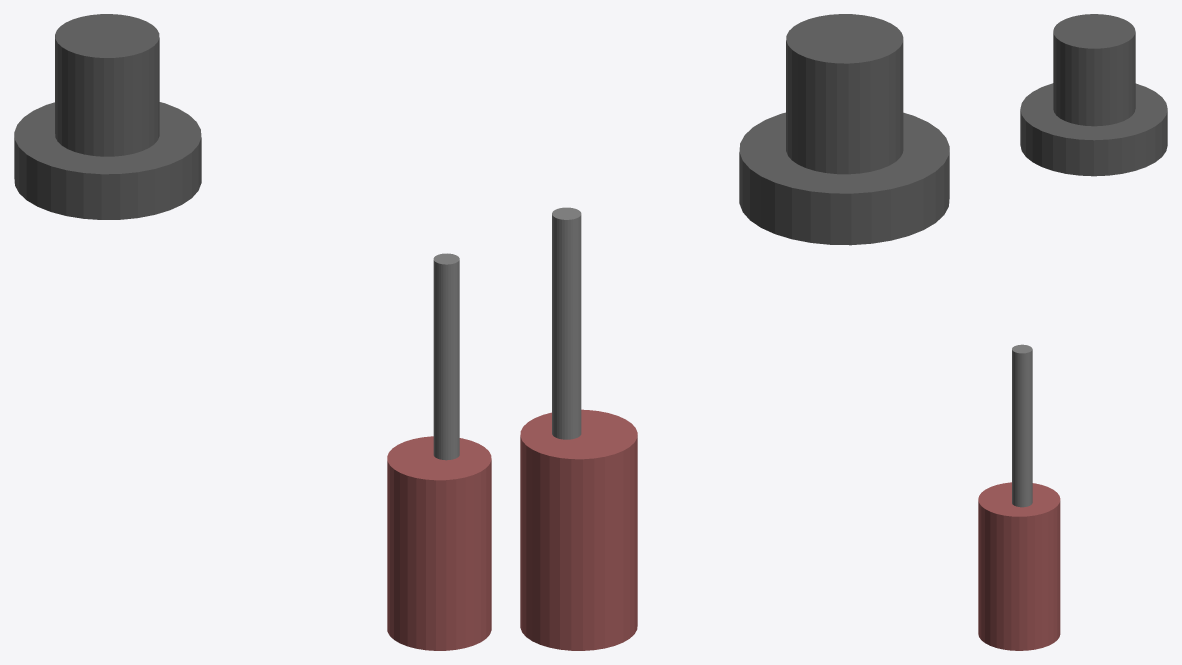
File: mr-tpo-gubbins.dae
3 renders of one model, left to right at view 1: azimuth 30°, elevation 25°; view 2: azimuth 150°, elevation 25°; view 3: azimuth 270°, elevation 25°, orthographic. The views are drawn at different scales.
Visible parts, largest first — view 1: Cylinder_031, Cylinder_015, Cylinder_016, Cylinder_032; view 2: Cylinder_031, Cylinder_015, Cylinder_016, Cylinder_032; view 3: Cylinder_031, Cylinder_015, Cylinder_016, Cylinder_032.
Boxes of the visible parts, x1,y1,x2,y2 form: Cylinder_031: (387,436,491,650); Cylinder_015: (14,102,201,219); Cylinder_016: (55,14,159,156); Cylinder_032: (433,253,459,460); Cylinder_031: (520,409,637,650); Cylinder_015: (739,112,949,245); Cylinder_016: (786,14,903,174); Cylinder_032: (552,207,581,439); Cylinder_031: (978,482,1060,650); Cylinder_015: (1020,83,1167,176); Cylinder_016: (1053,14,1135,126); Cylinder_032: (1012,344,1032,507).
Bounding box in the file's own units: 0.7247 × 0.3687 × 1.06.
